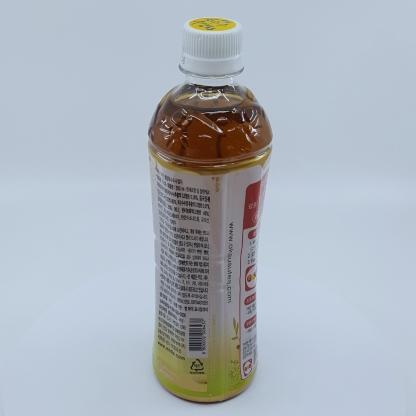---------500ML: (147, 17, 273, 403)
